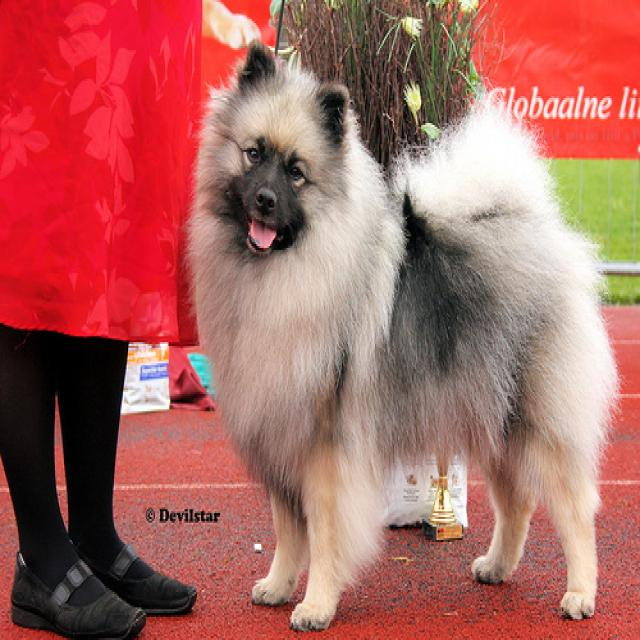dog-keeshond: (174, 25, 626, 636)
